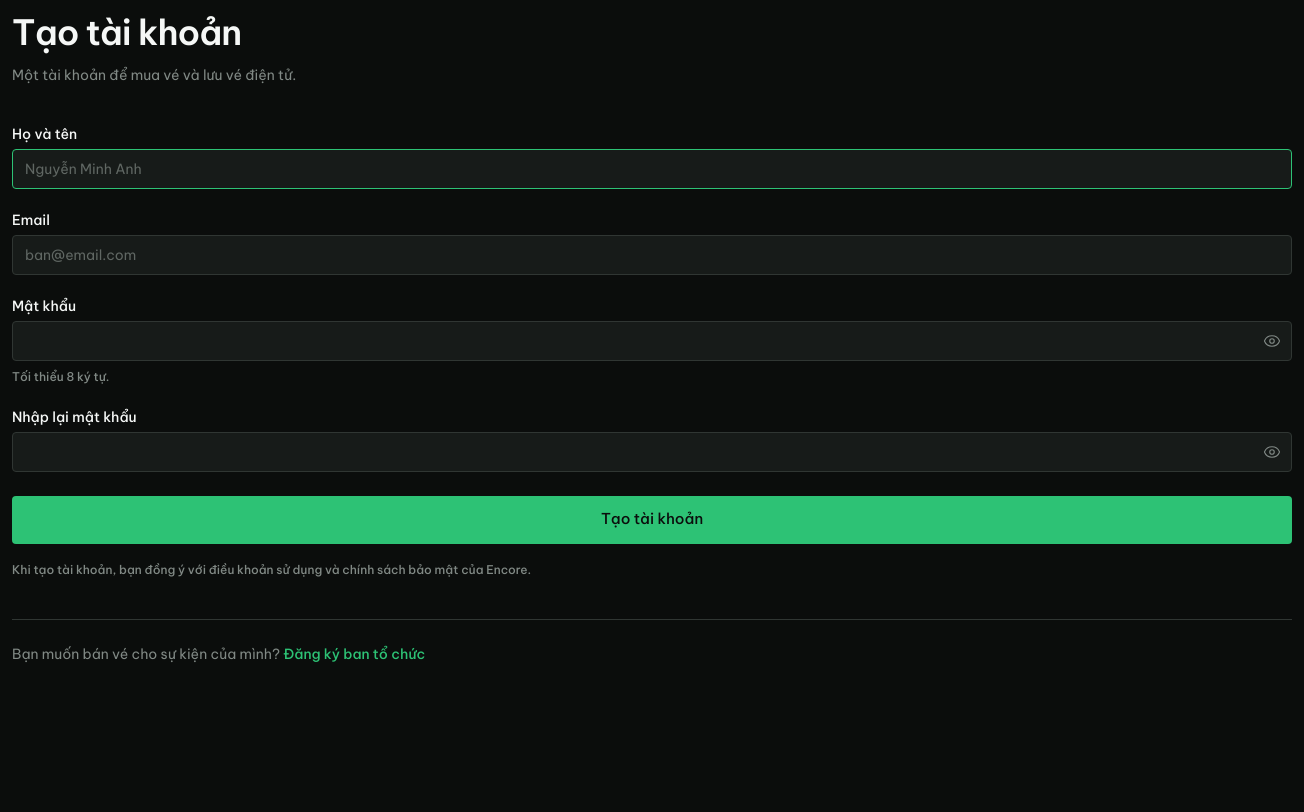
Test: RegisterPage › mật khẩu nhập lại không khớp
Type "Lê Thu Hà" into the field labelled "Họ và tên". click: [652, 169]
box: [12,149,1292,189]
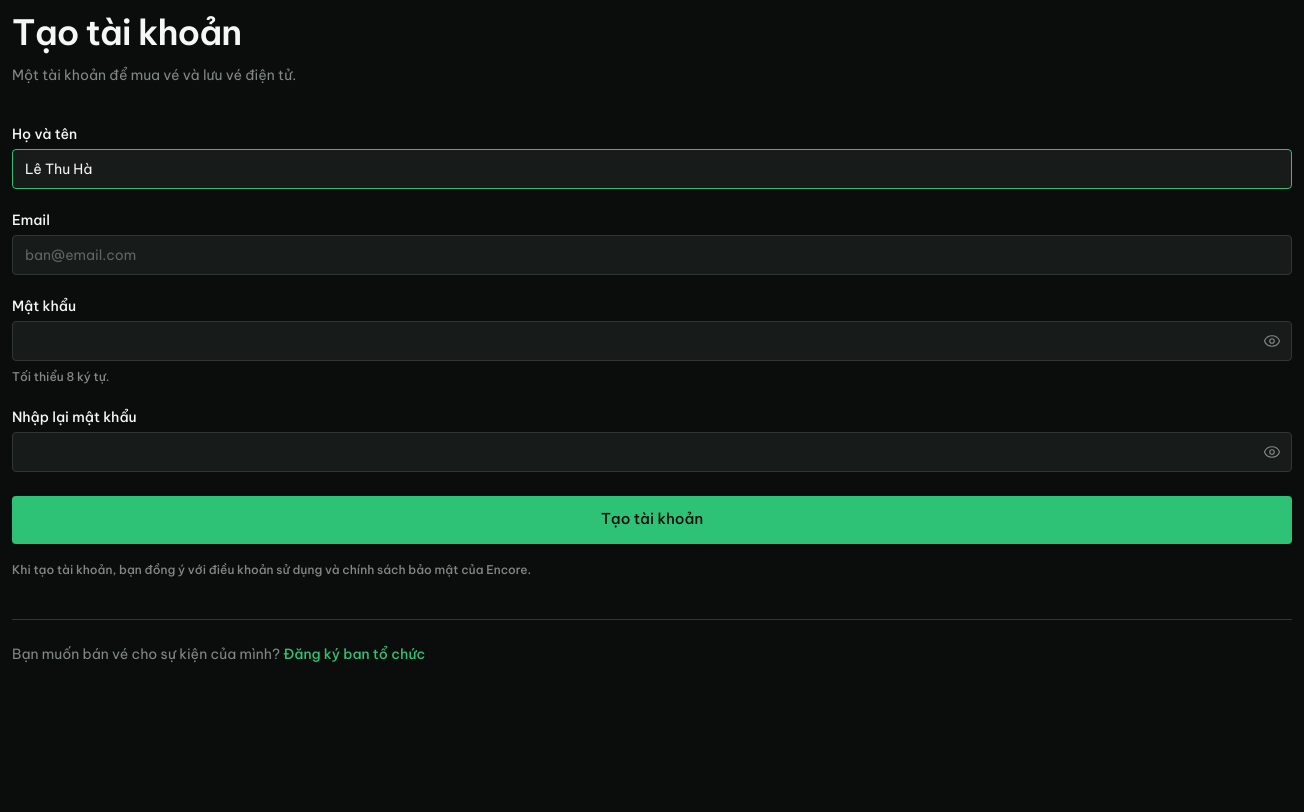
Type "a@example.com" into the field labelled "Email". click: [652, 255]
box: [12,235,1292,275]
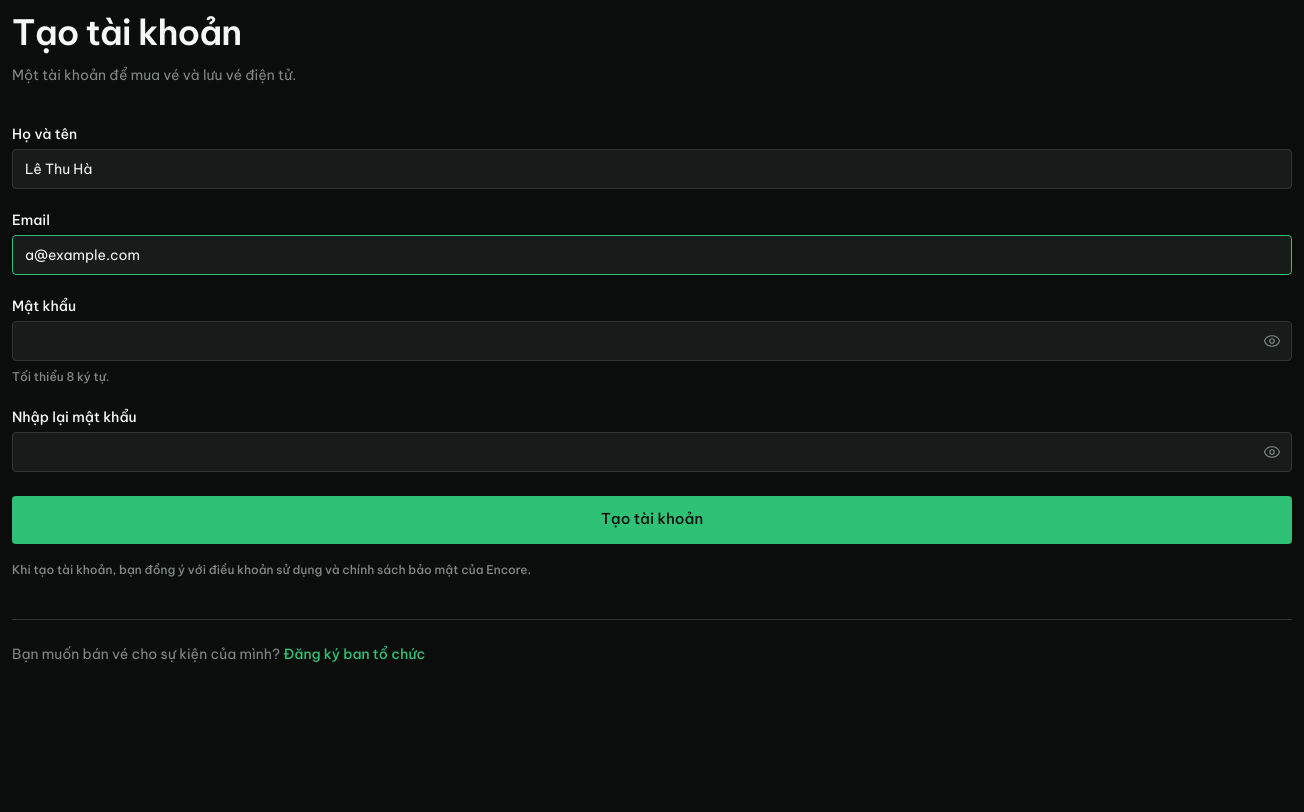
Type "matkhau123" into the password field labelled "Mật khẩu". click: [652, 341]
box: [12,321,1292,361]
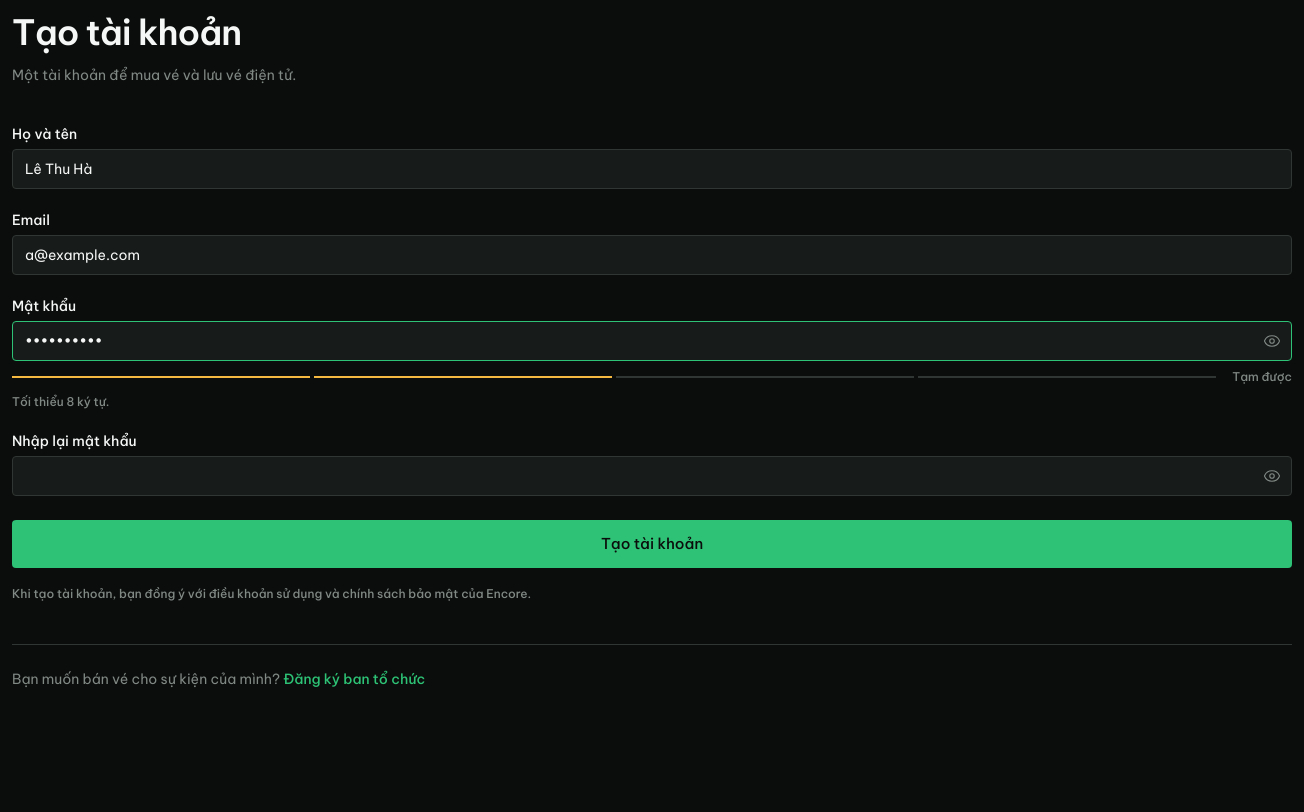
Type "matkhau124" into the password field labelled "Nhập lại mật khẩu". click: [652, 476]
box: [12,456,1292,496]
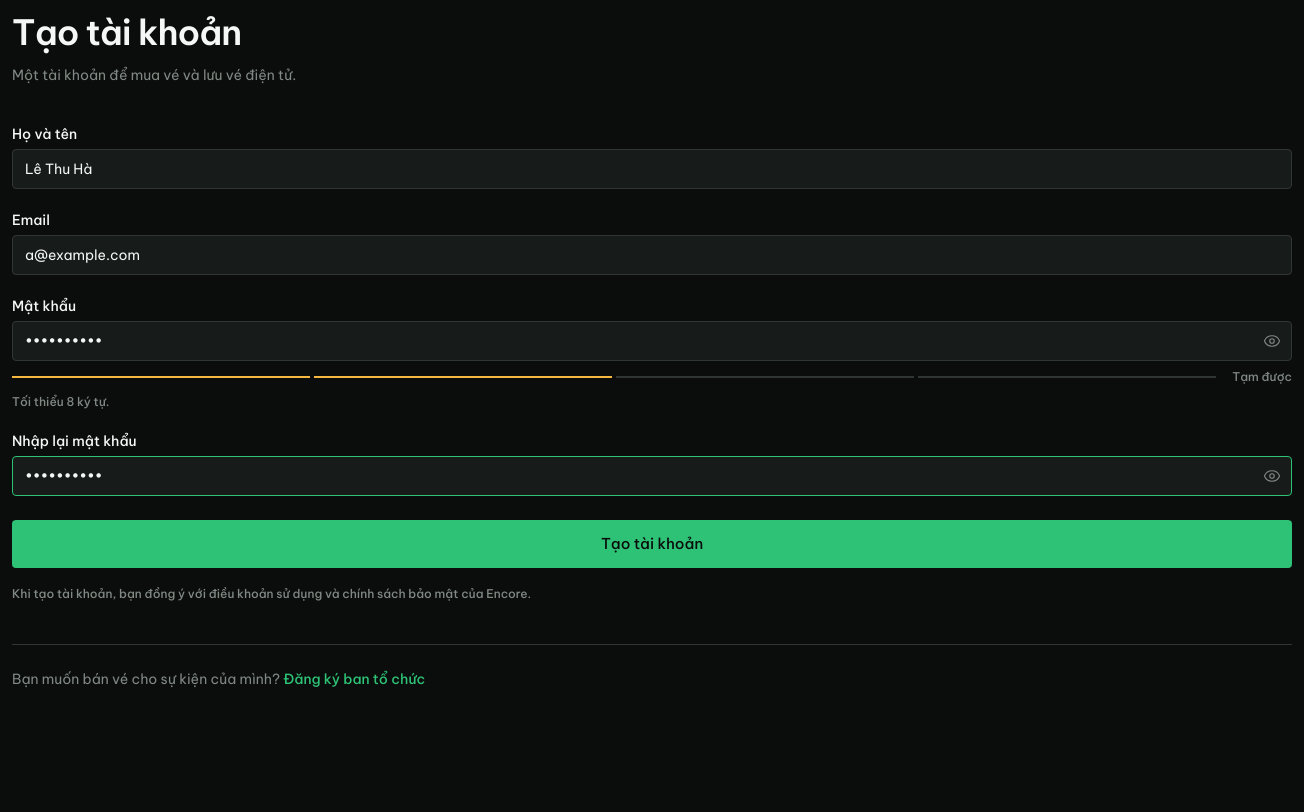
Click the button "Tạo tài khoản". click: [652, 544]
box: [12,520,1292,568]
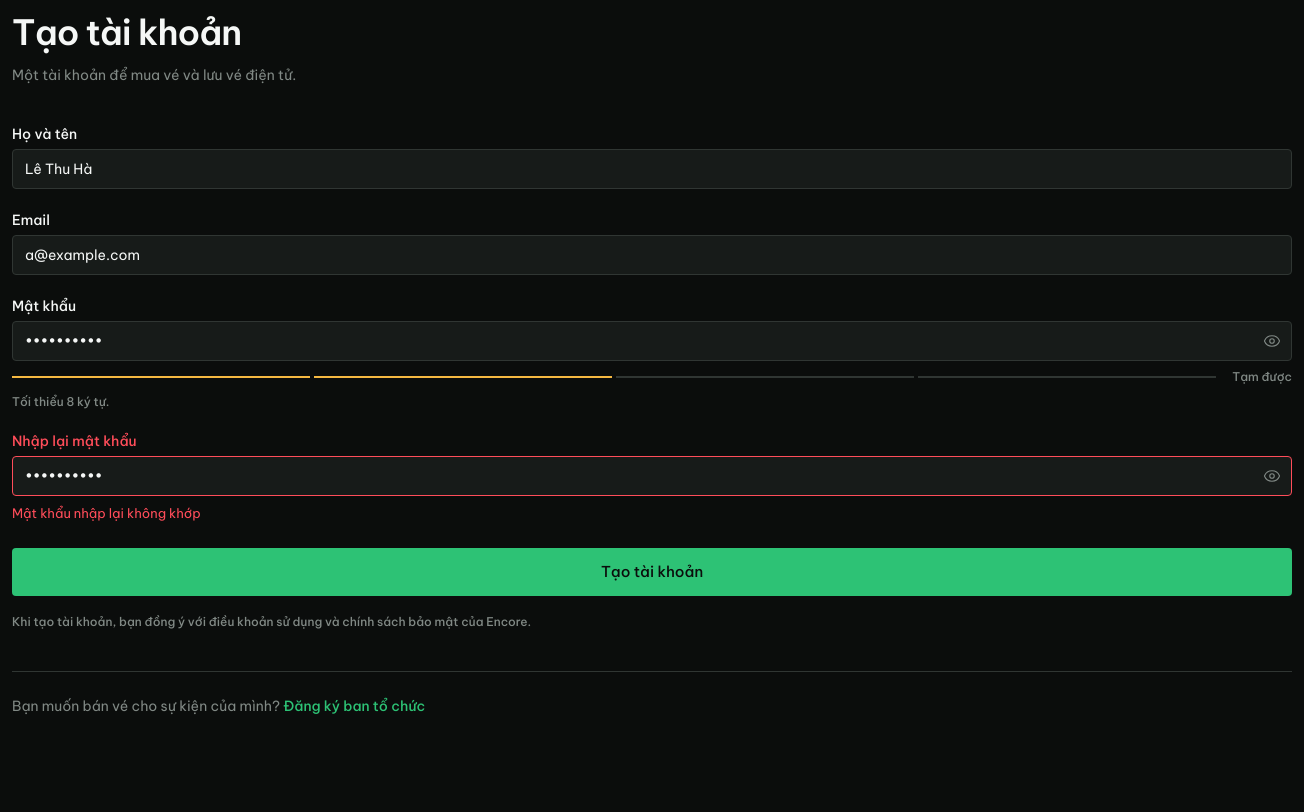
Result: the text "Mật khẩu nhập lại không khớp" is shown at [12,505,201,521]
